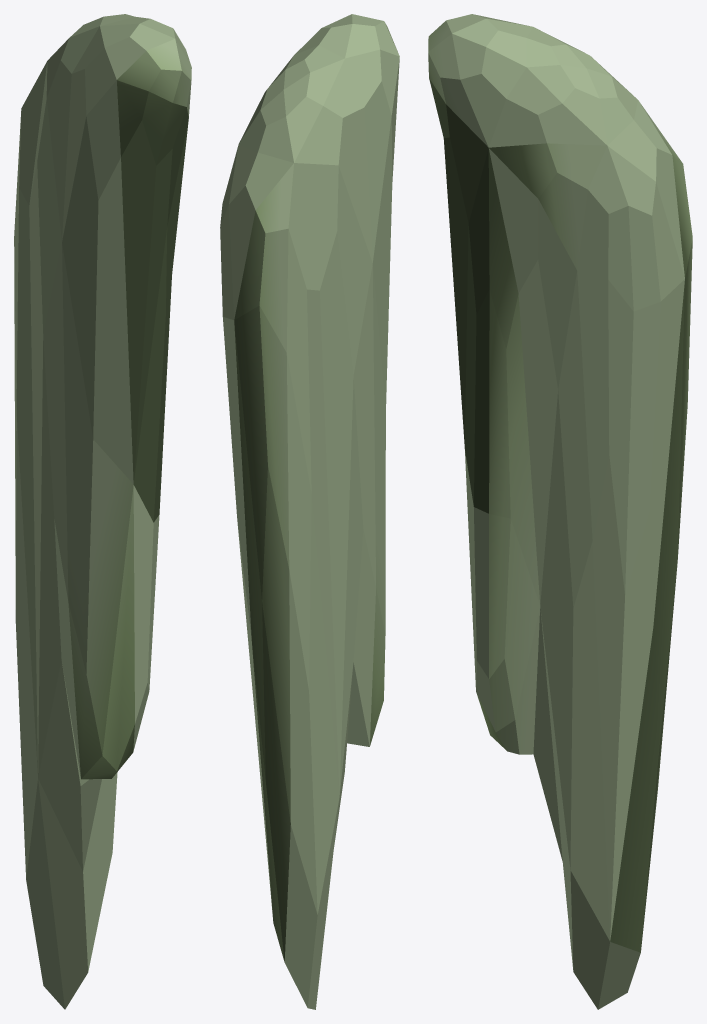
File: EA_Swamp_Liana_05d.glb
3 renders of one model, left to right at view 1: azimuth 30°, elevation 25°; view 2: azimuth 150°, elevation 25°; view 3: azimuth 270°, elevation 25°, orthographic. The views are drawn at different scales.
Visible parts, largest first — view 1: EA_Swamp_Liana_05d; view 2: EA_Swamp_Liana_05d; view 3: EA_Swamp_Liana_05d.
Part boxes in pixels (box(x1,y1,x2,y2)): EA_Swamp_Liana_05d: box(14, 14, 191, 1009); EA_Swamp_Liana_05d: box(220, 14, 399, 1009); EA_Swamp_Liana_05d: box(428, 14, 692, 1009).
Size of the model in its own units: 0.4519 by 3.67 by 0.8803.
Materials: 1 (1 with a texture image).
